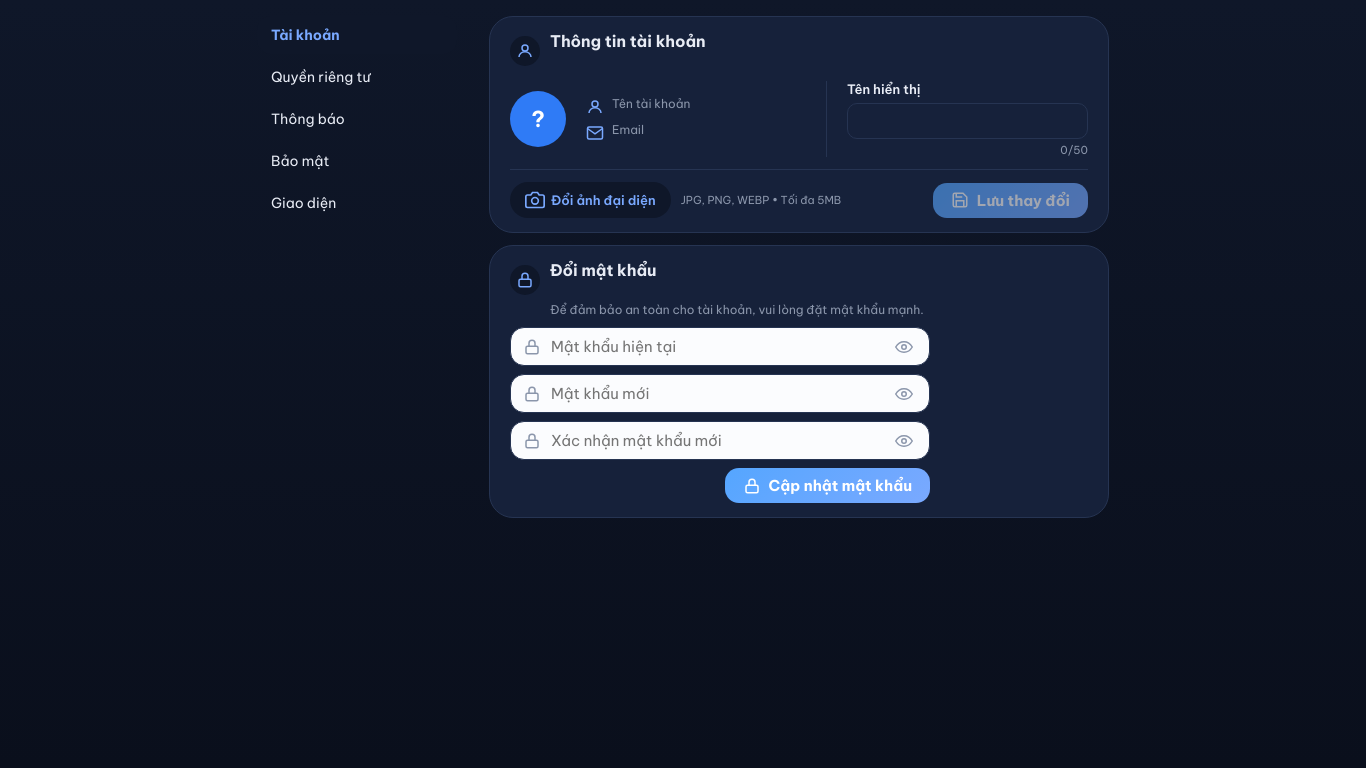
Test: TrangCaiDat › xac nhan mat khau moi khong khop hien loi, khong goi API
The image size is (1366, 768).
Type "Cu123456" into the password field with placeholder "Mật khẩu hiện tại".
click(716, 346); type("Cu123456")  # box 541,328 -> 891,365
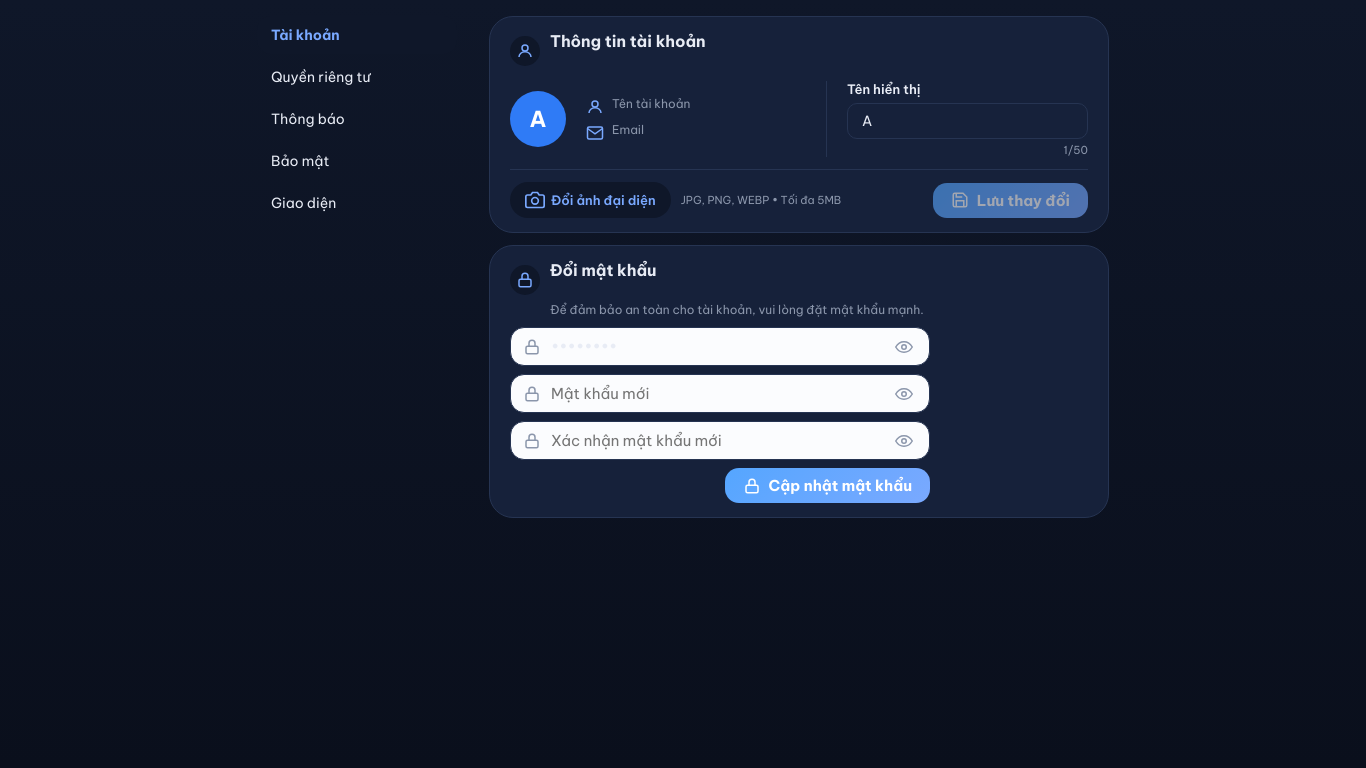
Type "Moi123456" into the password field with placeholder "Mật khẩu mới".
click(716, 394); type("Moi123456")  # box 541,375 -> 891,412
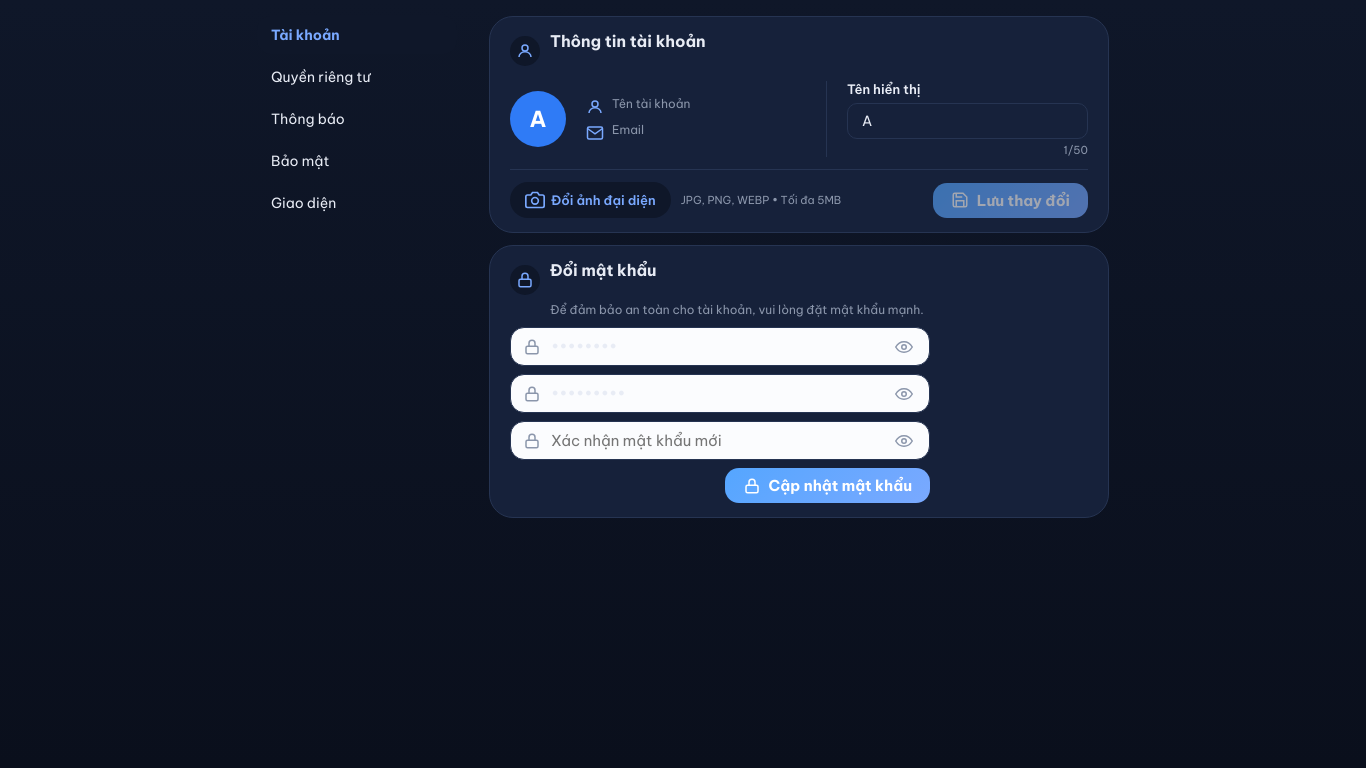
Type "Khac123456" into the password field with placeholder "Xác nhận mật khẩu mới".
click(716, 440); type("Khac123456")  # box 541,422 -> 891,459
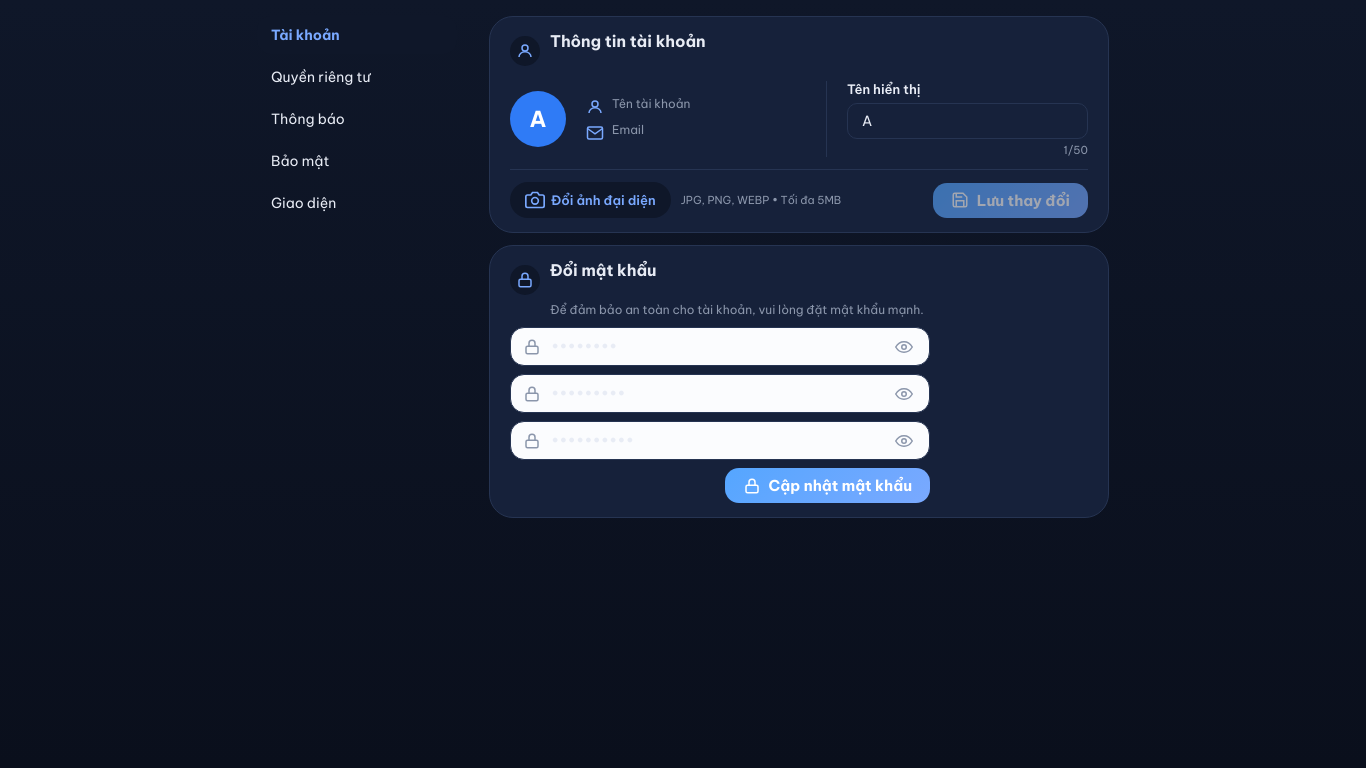
Click the button "Cập nhật mật khẩu".
click(827, 486)  # box 724,468 -> 930,503
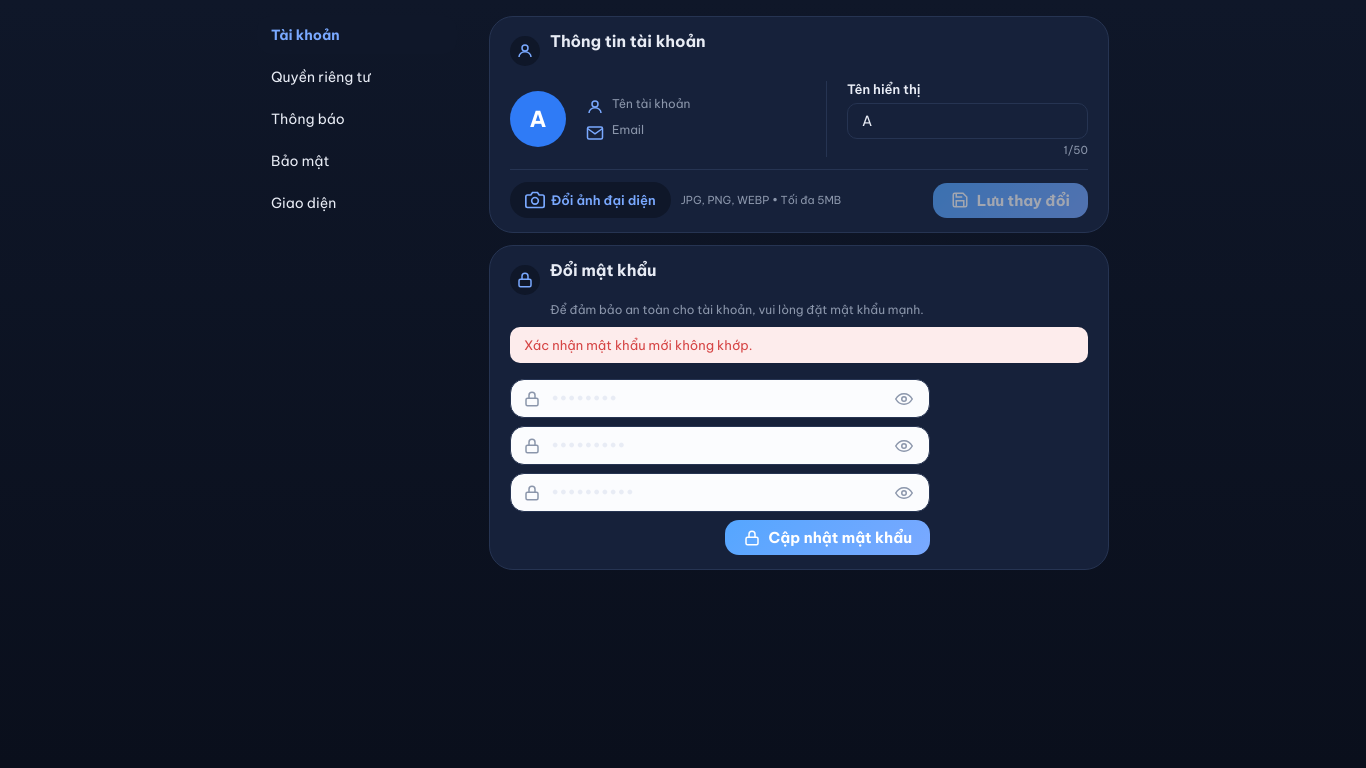
Now the text "Xác nhận mật khẩu mới không khớp." is shown, box 510,327 -> 1088,363
